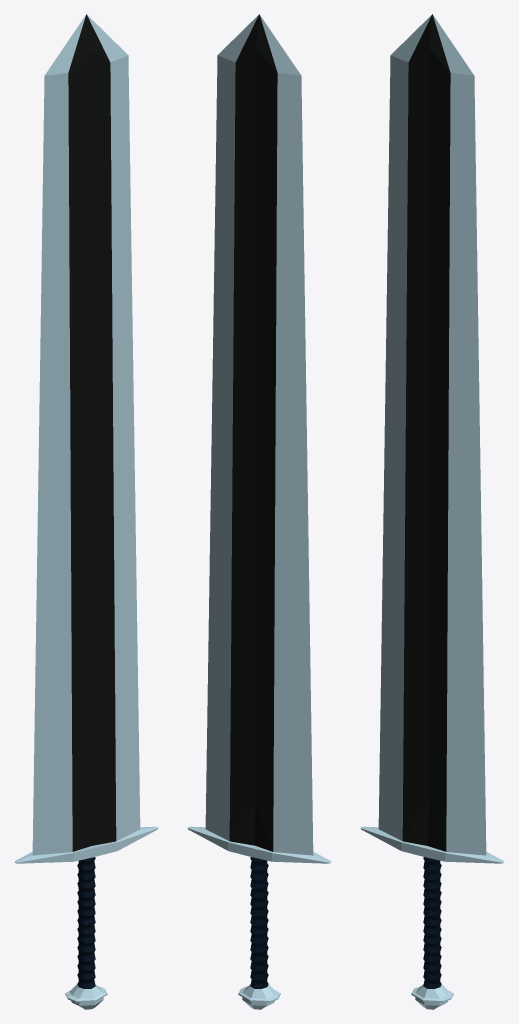
File: Greatsword_mk_1.fbx
The picture shows the model from 3 angles, left to right: view 1: azimuth 30°, elevation 25°; view 2: azimuth 150°, elevation 25°; view 3: azimuth 330°, elevation 25°; orthographic projection.
Parts seen in each view (by area): view 1: Greatsword_mk_1; view 2: Greatsword_mk_1; view 3: Greatsword_mk_1.
Part boxes in pixels (x1=…): Greatsword_mk_1: x1=14, y1=14, x2=158, y2=1009; Greatsword_mk_1: x1=187, y1=14, x2=331, y2=1009; Greatsword_mk_1: x1=360, y1=14, x2=504, y2=1009.
Bounding box in the file's own units: 30.33 × 6.93 × 200.
